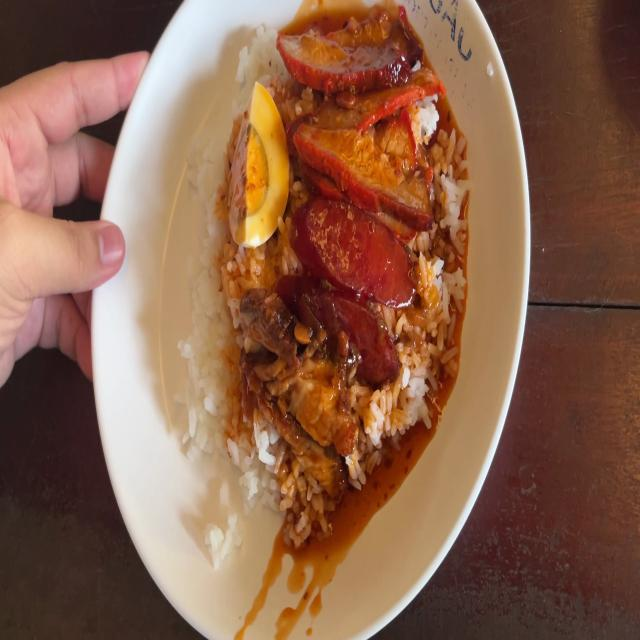red_pork_and_crispy_pork: (234, 89, 282, 242)
stir_fried_basil: (285, 195, 408, 366)
